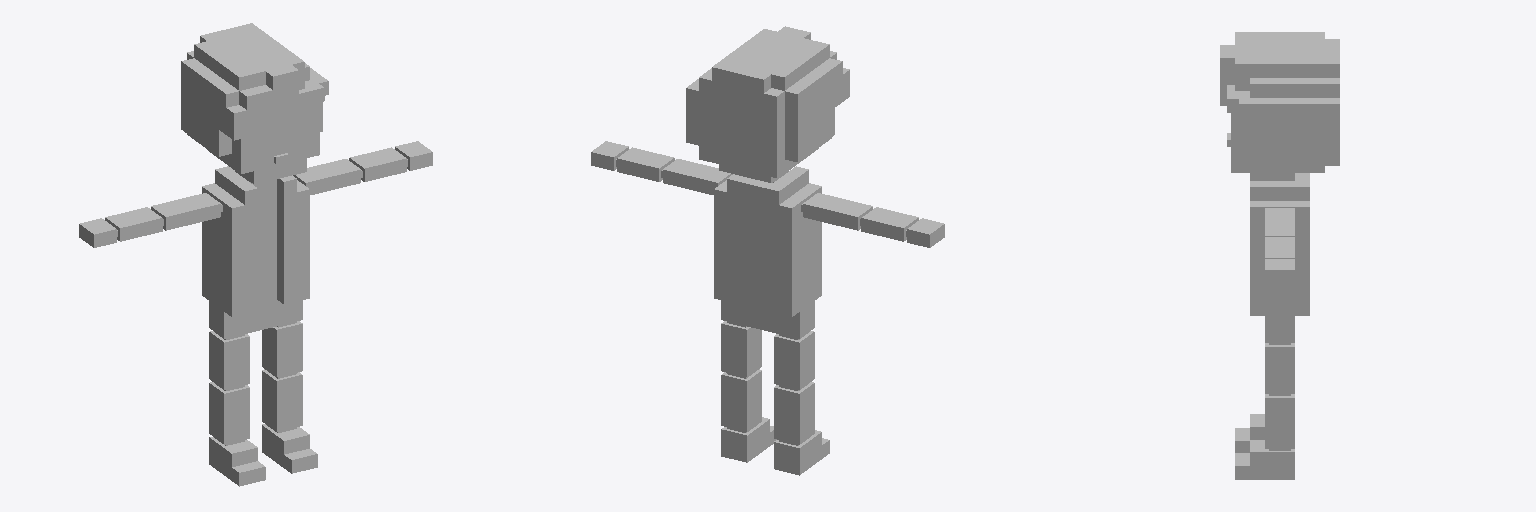
File: gumi-v02.obj
3 views of the same model, side by side, from view 1: azimuth 30°, elevation 25°; view 2: azimuth 150°, elevation 25°; view 3: azimuth 270°, elevation 25° (orthographic).
Visible parts, largest first — view 1: gumi; view 2: gumi; view 3: gumi.
Part boxes in pixels (bbox=[...]): gumi: bbox=[79, 23, 432, 486]; gumi: bbox=[591, 26, 944, 475]; gumi: bbox=[1220, 32, 1339, 479].
Size of the model in its own units: 10.4 by 12 by 3.2.